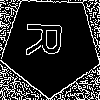R: (25, 20, 71, 58)
